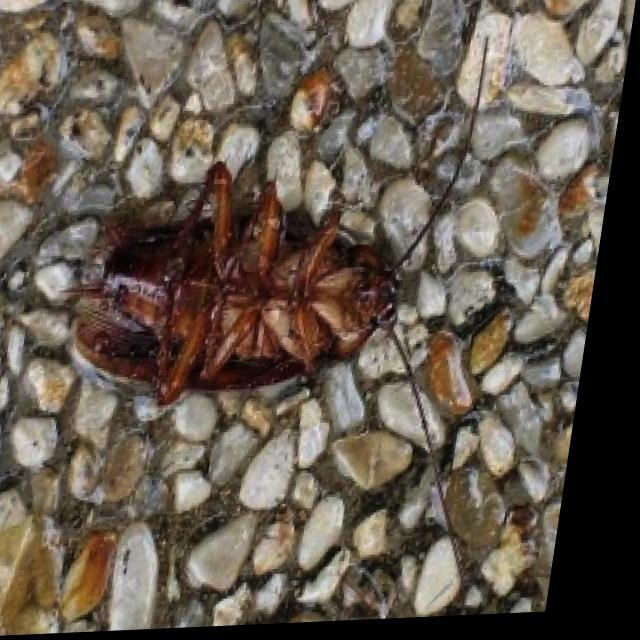cockroach: (64, 157, 403, 408)
